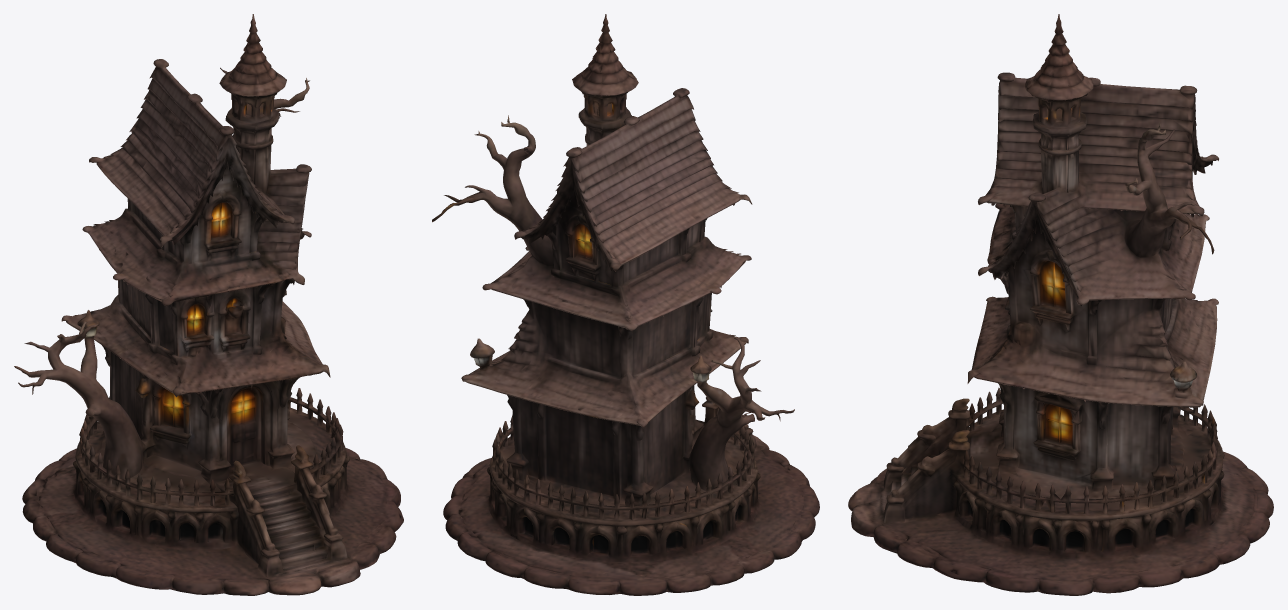
Rendered from fantasy-house.glb.
3 views of the same model, side by side, from view 1: azimuth 30°, elevation 25°; view 2: azimuth 150°, elevation 25°; view 3: azimuth 270°, elevation 25° (orthographic). The views are drawn at different scales.
Parts seen in each view (by area): view 1: material; view 2: material; view 3: material.
Part boxes in pixels (x1=…): material: x1=14, y1=14, x2=403, y2=595; material: x1=432, y1=14, x2=819, y2=595; material: x1=848, y1=14, x2=1273, y2=595.
Bounding box in the file's own units: 0.7067 × 0.9619 × 0.7209.
1 material, 1 textured.
